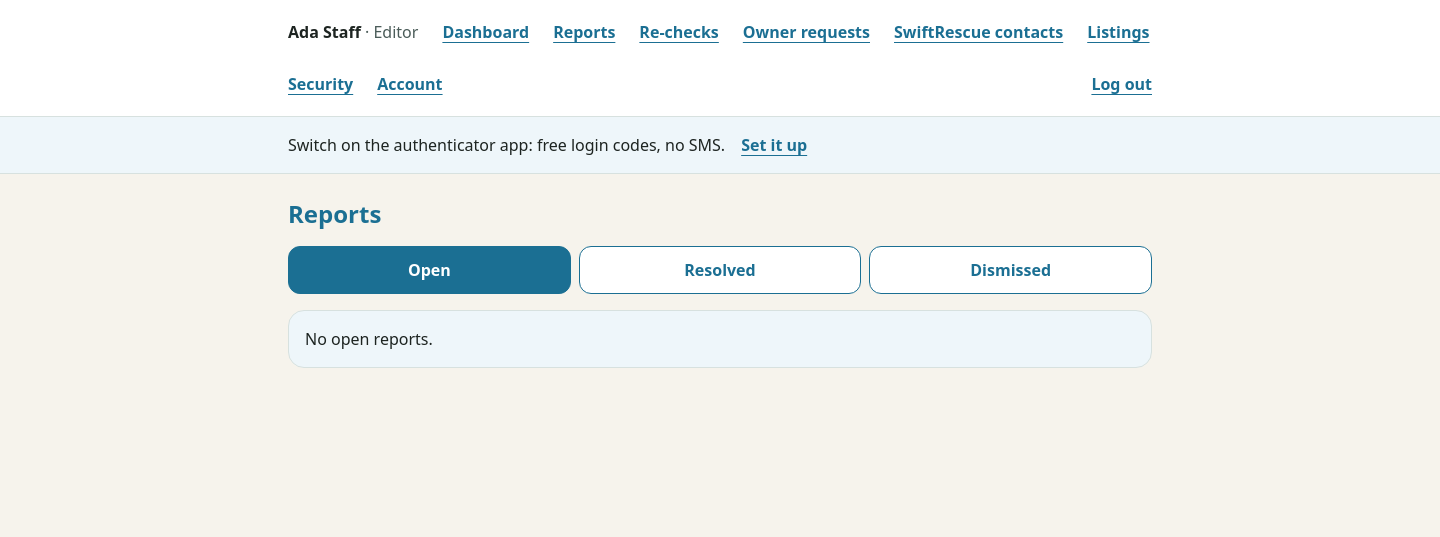
Test case: the choice of status › asks for the resolved reports, marks the button, and shows them without buttons or phone
Check: the text "No open reports." is shown, box [288,310,1152,368]
What coordinates should you click on to do the following:
click the button "Resolved"
I would click on:
 (720, 270)
Its box is [579,246,861,294].
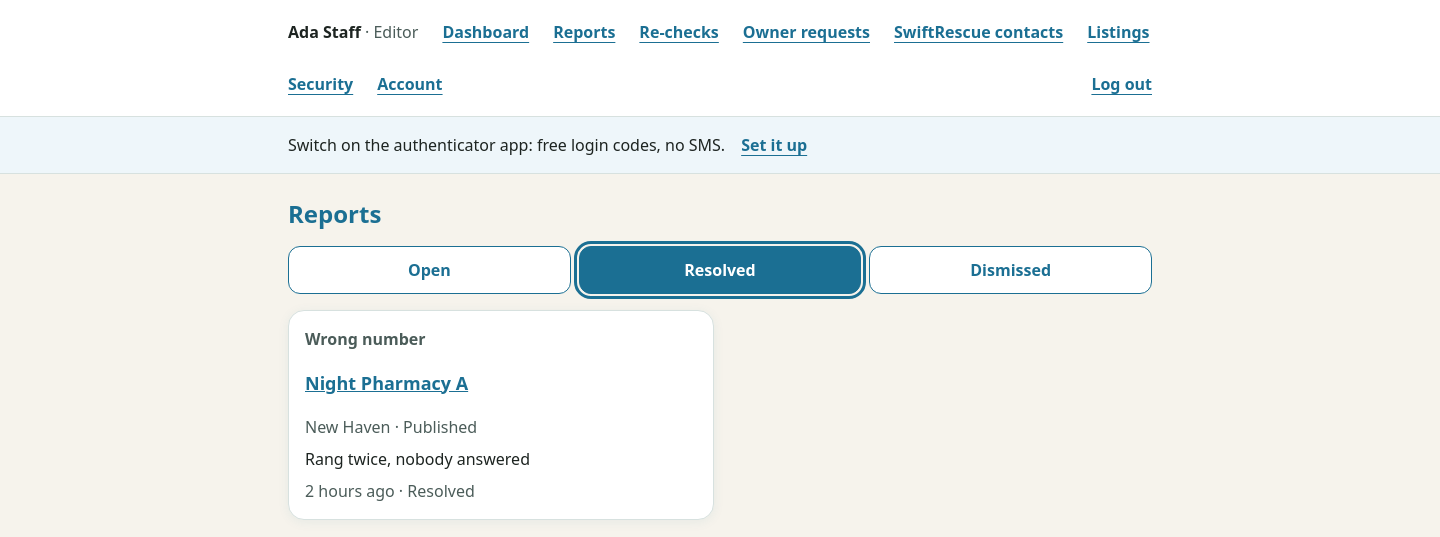
Check: the element that starts with "Wrong number" shows "Resolved", box [395,480,475,502]
